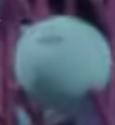algae: (14, 16, 112, 113)
